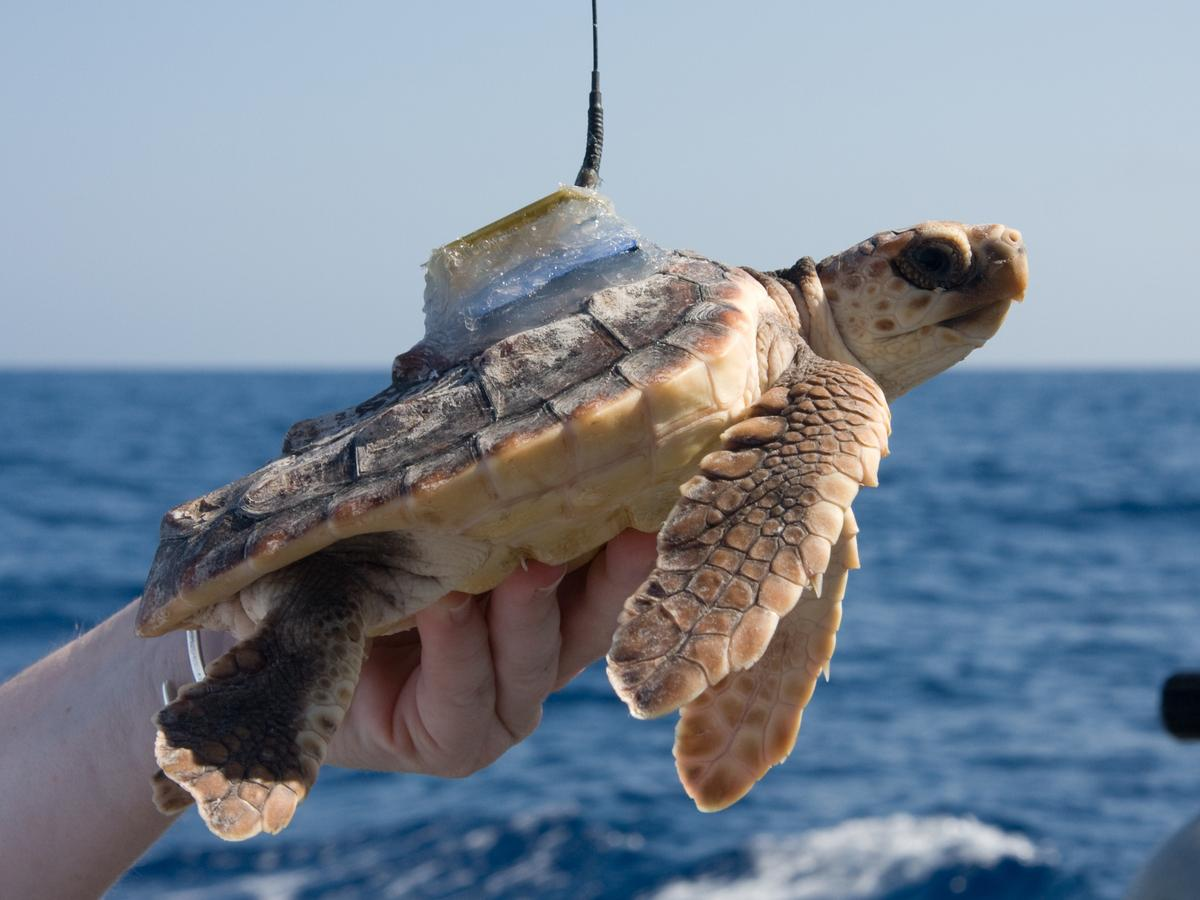turtle: (806, 209, 1036, 408)
